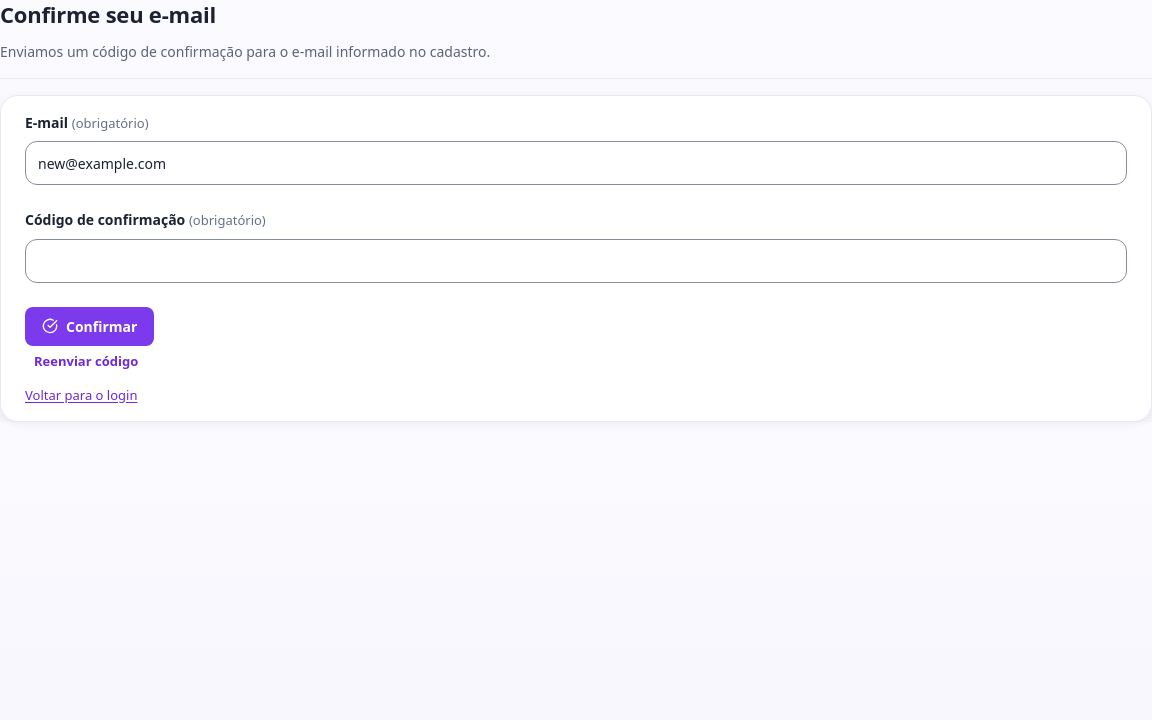
Test case: VerifyEmail › shows an error on an invalid/expired code
The width and height of the screenshot is (1152, 720).
Type "000000" into the field labelled "Código de confirmação (obrigatório)" at (576, 261), box [25,239,1127,283]
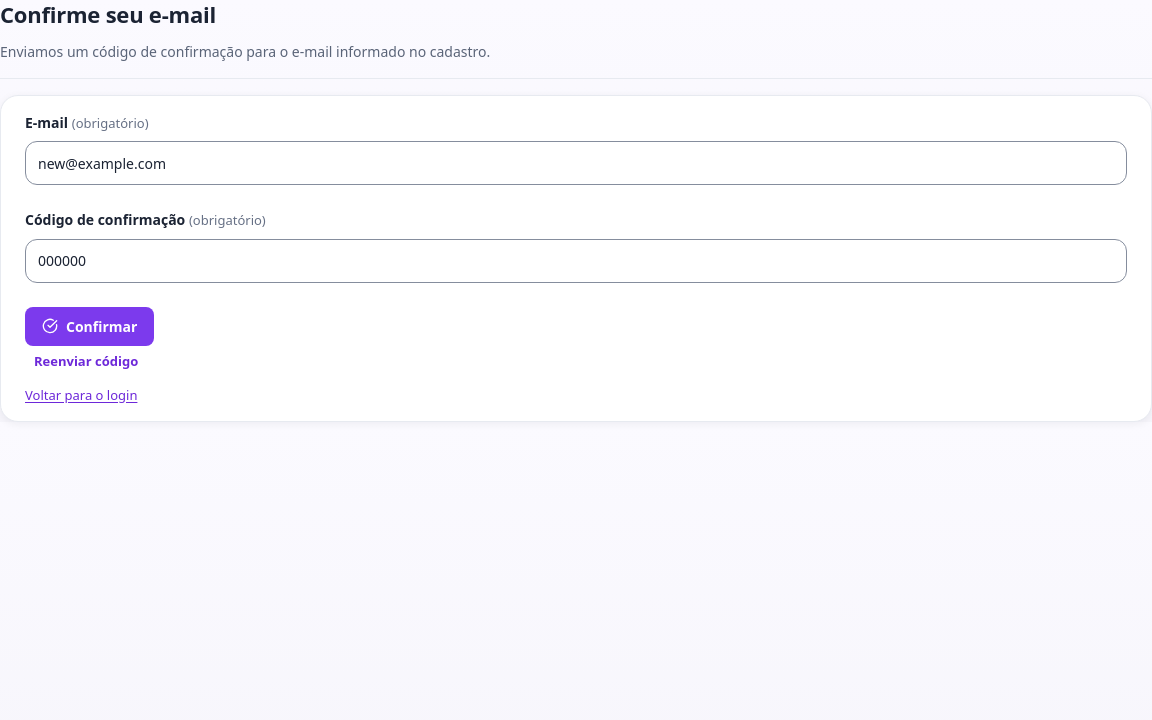
Click the button "Confirmar" at (90, 326), box [25,307,154,346]
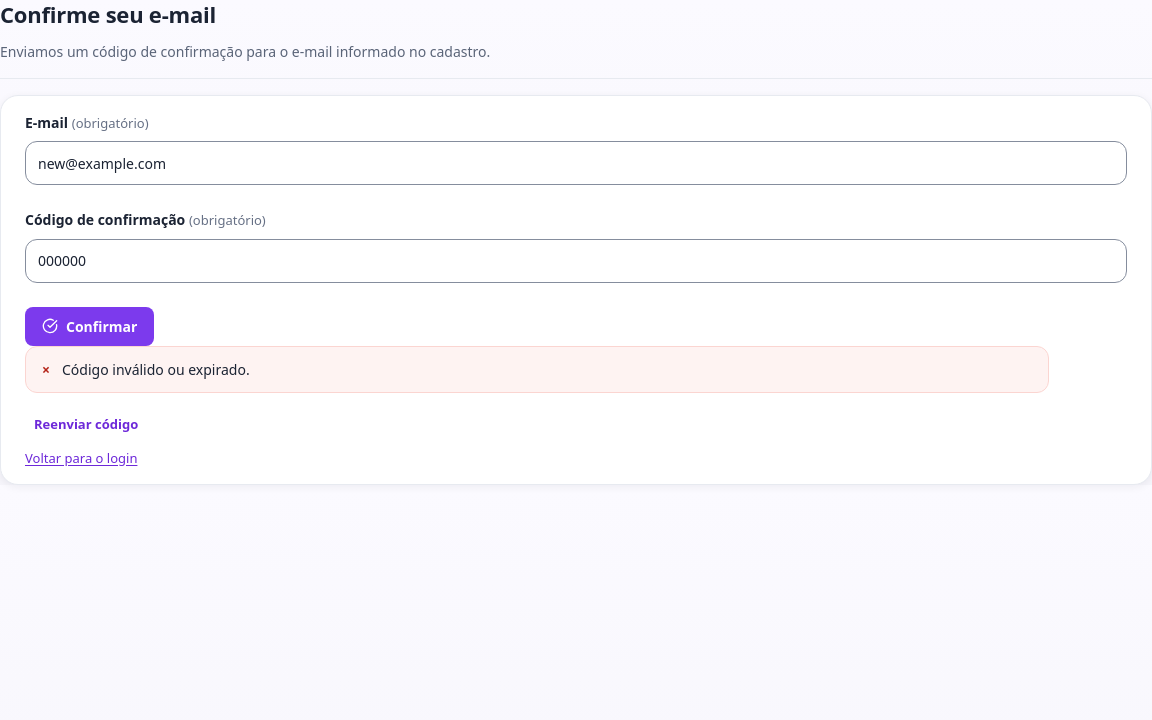
Now the text "Código inválido ou expirado." is shown, box [62,359,250,380]
